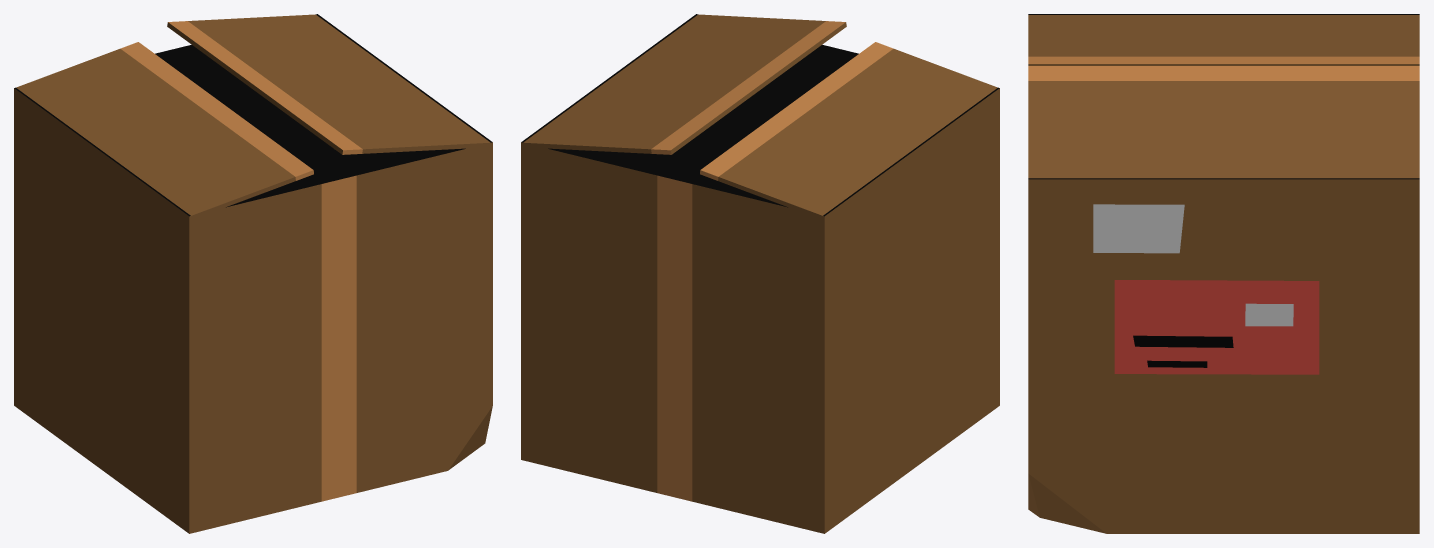
3 views of the same model, side by side, from view 1: azimuth 30°, elevation 25°; view 2: azimuth 150°, elevation 25°; view 3: azimuth 270°, elevation 25° (orthographic). The views are drawn at different scales.
Parts seen in each view (by area): view 1: Cube; view 2: Cube; view 3: Cube.
Boxes of the visible parts, <box> form: Cube: <box>14,14,492,533</box>; Cube: <box>521,14,999,533</box>; Cube: <box>1028,14,1419,533</box>.
Bounding box in the file's own units: 200 × 218 × 200.
